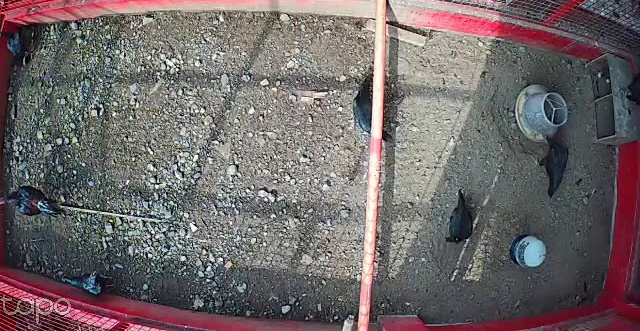Chicken: (350, 72, 395, 145), (528, 129, 570, 200), (443, 187, 476, 245), (59, 269, 121, 298), (0, 26, 42, 64)
Drinker: (510, 234, 549, 270)
Feeder: (514, 82, 570, 143)
Rooster: (0, 181, 71, 222)
